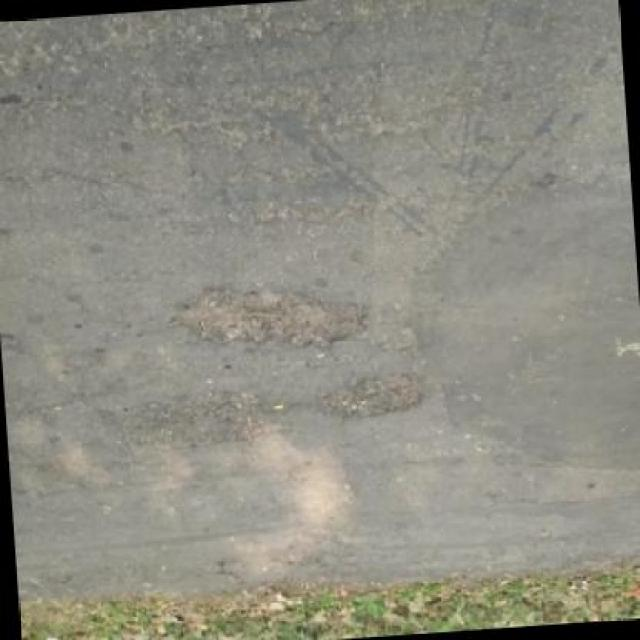pothole1: (164, 277, 373, 365), (130, 385, 276, 457), (317, 368, 428, 427)
